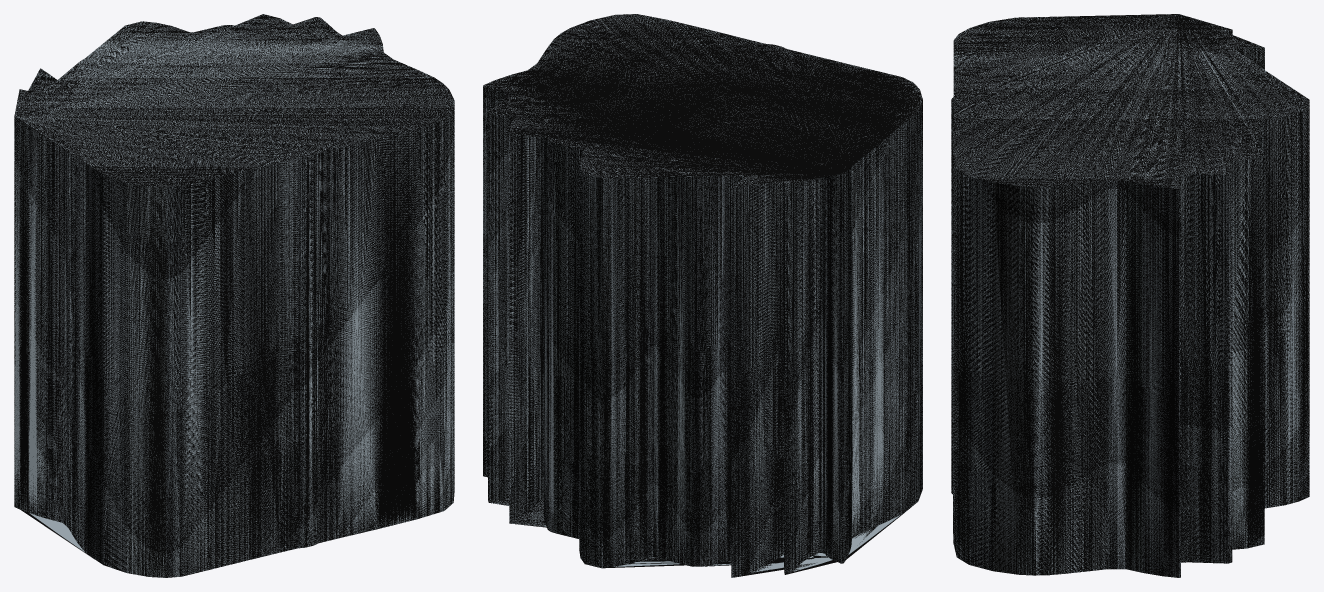
Rendered from speargun.fbx.
The picture shows the model from 3 angles, left to right: view 1: azimuth 30°, elevation 25°; view 2: azimuth 150°, elevation 25°; view 3: azimuth 270°, elevation 25°; orthographic projection.
Visible parts, largest first — view 1: Group1; view 2: Group1; view 3: Group1.
Part boxes in pixels (left/top/right/bottom): Group1: left=14, top=14, right=454, bottom=577; Group1: left=483, top=14, right=922, bottom=577; Group1: left=951, top=14, right=1309, bottom=577.
Bounding box in the file's own units: 1935 × 2000 × 1672.
